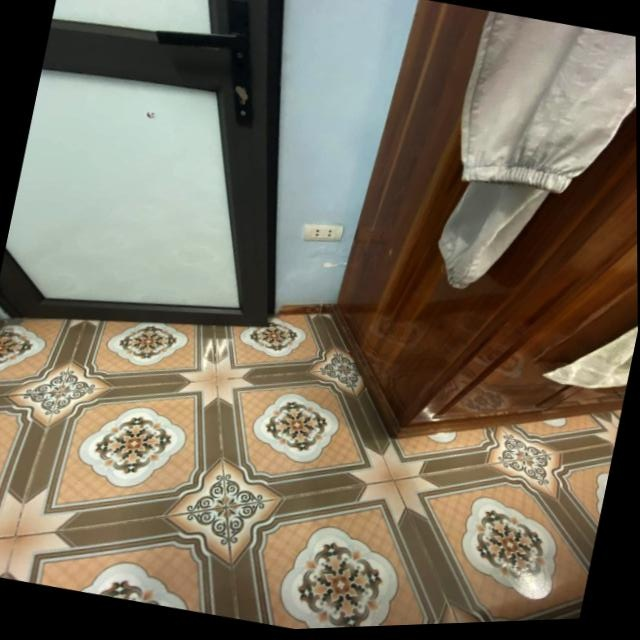outlet: (299, 218, 345, 250)
